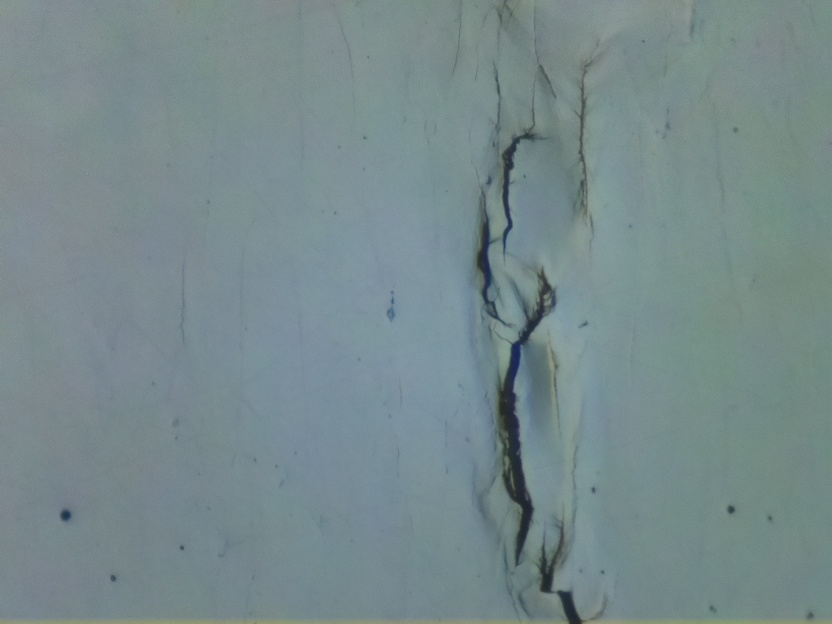crack: (497, 270, 564, 571), (499, 131, 537, 257), (540, 533, 590, 624), (469, 203, 499, 339), (571, 67, 594, 240)
